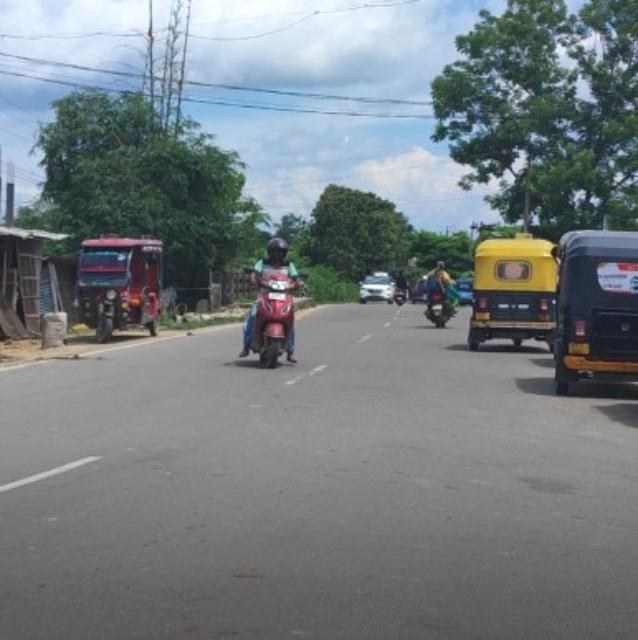licensePlate: (266, 292, 286, 303), (431, 303, 442, 310)
motorcycle: (236, 237, 300, 368), (423, 260, 456, 332)
withHelmet: (265, 240, 289, 260)
